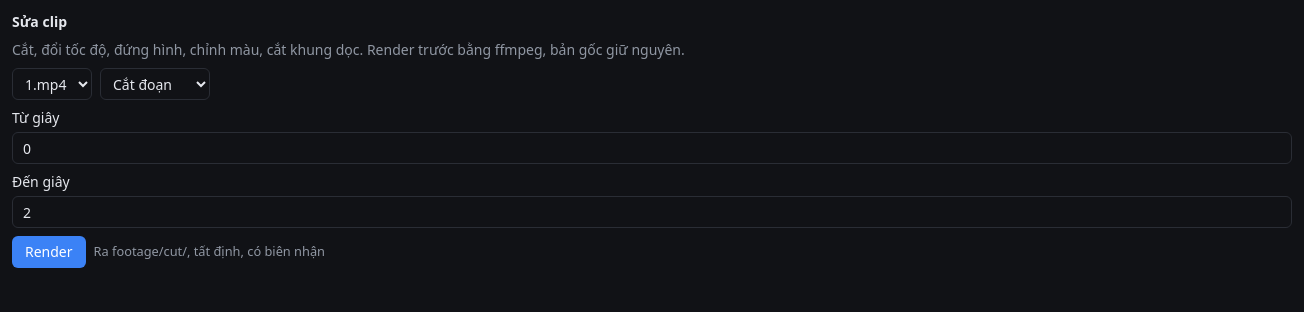
Test: Sửa clip › shows the render error of the server
The image size is (1304, 312).
Click the button "Render" at (49, 252), box [12,236,86,268]
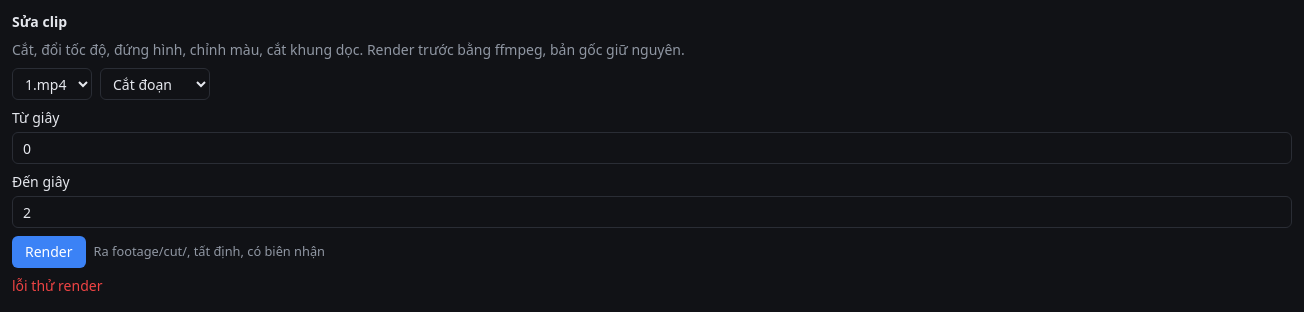
Check: the text "lỗi thử render" is shown, box [12,276,102,295]
